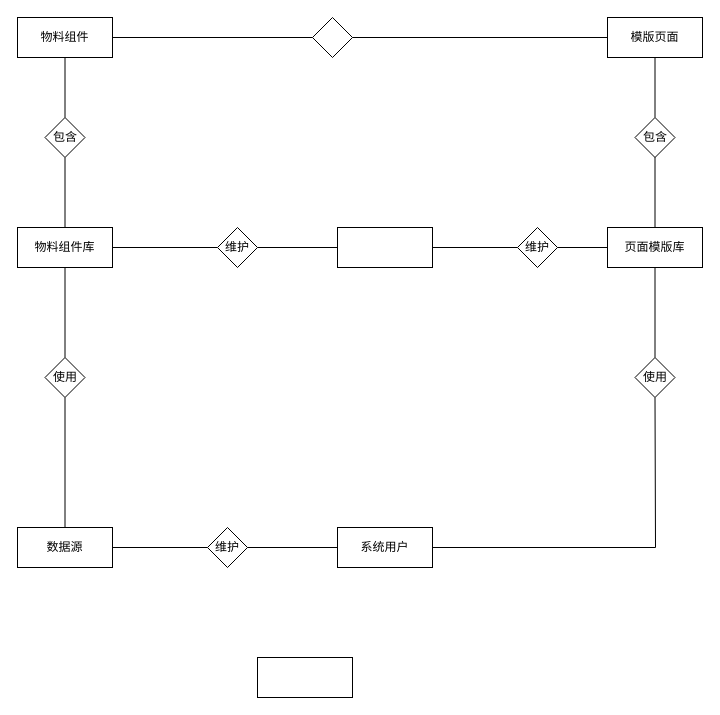
The diagram is 720 pixels wide and 715 high, and some of its shapes have lost their labels. The box of each missing label's shape, as (x1, y1, x2, y2) in pixels:
构建: (312, 16, 352, 58)
系统管理员: (336, 226, 432, 268)
页面设计: (256, 656, 352, 698)
